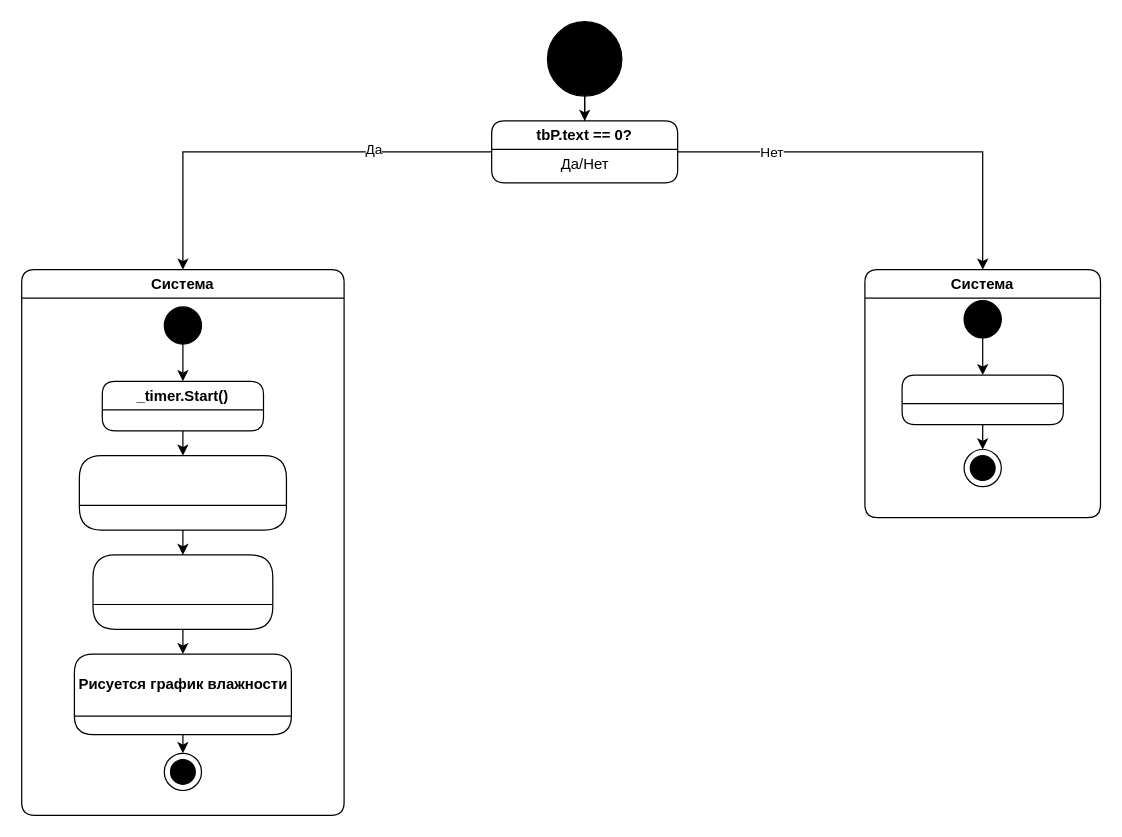
This 1122x837 diagram has some shape labels left out. Here are the shapes that lost their labels. From the top down, the centre of each, then its label:
pixel 982 399: _timer.Stop()
pixel 182 492: _timer.Tick += UpdateGraph
pixel 182 591: Вычисляется влажност
